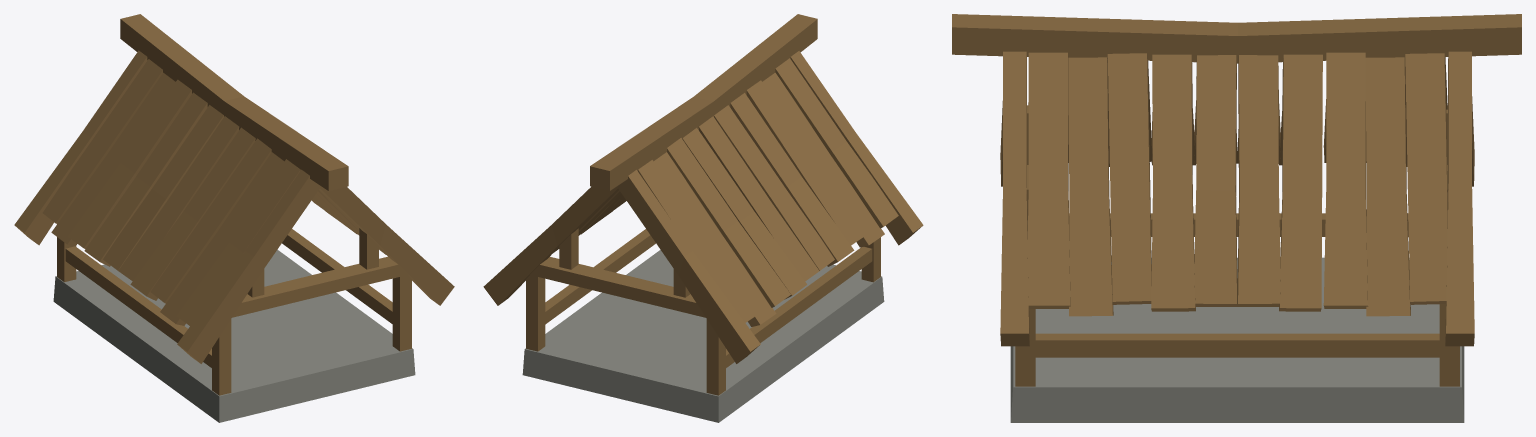
The model's file is quaternius-real-time-strategy-houses-first-age-1-level-2.glb.
The picture shows the model from 3 angles, left to right: view 1: azimuth 30°, elevation 25°; view 2: azimuth 150°, elevation 25°; view 3: azimuth 270°, elevation 25°; orthographic projection. The views are drawn at different scales.
Visible parts, largest first — view 1: Houses_FirstAge_1_Level2; view 2: Houses_FirstAge_1_Level2; view 3: Houses_FirstAge_1_Level2.
Boxes of the visible parts, left/top/right/bottom form: Houses_FirstAge_1_Level2: left=14, top=14, right=454, bottom=422; Houses_FirstAge_1_Level2: left=483, top=14, right=923, bottom=422; Houses_FirstAge_1_Level2: left=952, top=14, right=1521, bottom=422.
Bounding box in the file's own units: 0.8693 × 0.7645 × 1.17.
